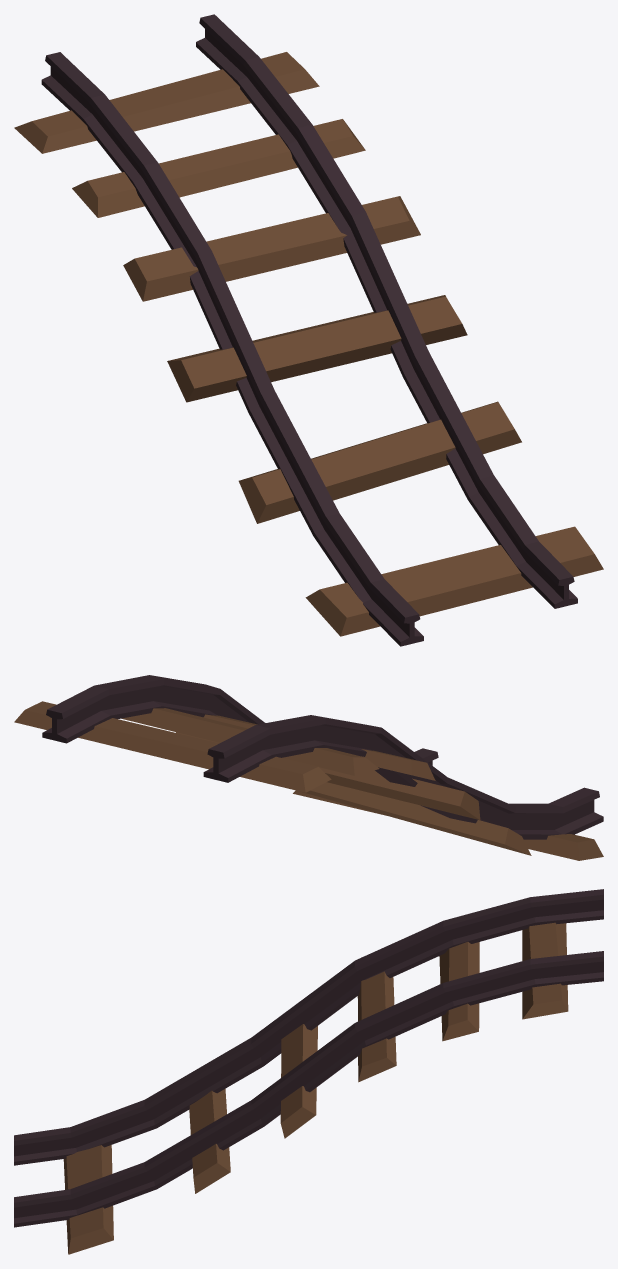
Rendered from railway_up_01_style_01.fbx.
The picture shows the model from 3 angles, top to bottom: view 1: azimuth 30°, elevation 25°; view 2: azimuth 150°, elevation 25°; view 3: azimuth 270°, elevation 25°; orthographic projection. The views are drawn at different scales.
Parts seen in each view (by area): view 1: up; view 2: up; view 3: up.
Part boxes in pixels (x1,y1,x2,y2): up: (14,14,603,646); up: (14,675,603,860); up: (14,889,603,1254).
Bounding box in the file's own units: 151 × 166 × 326.
